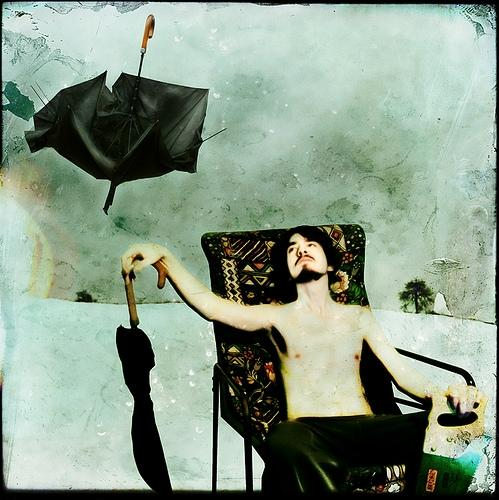tomato: (414, 387, 492, 500)
